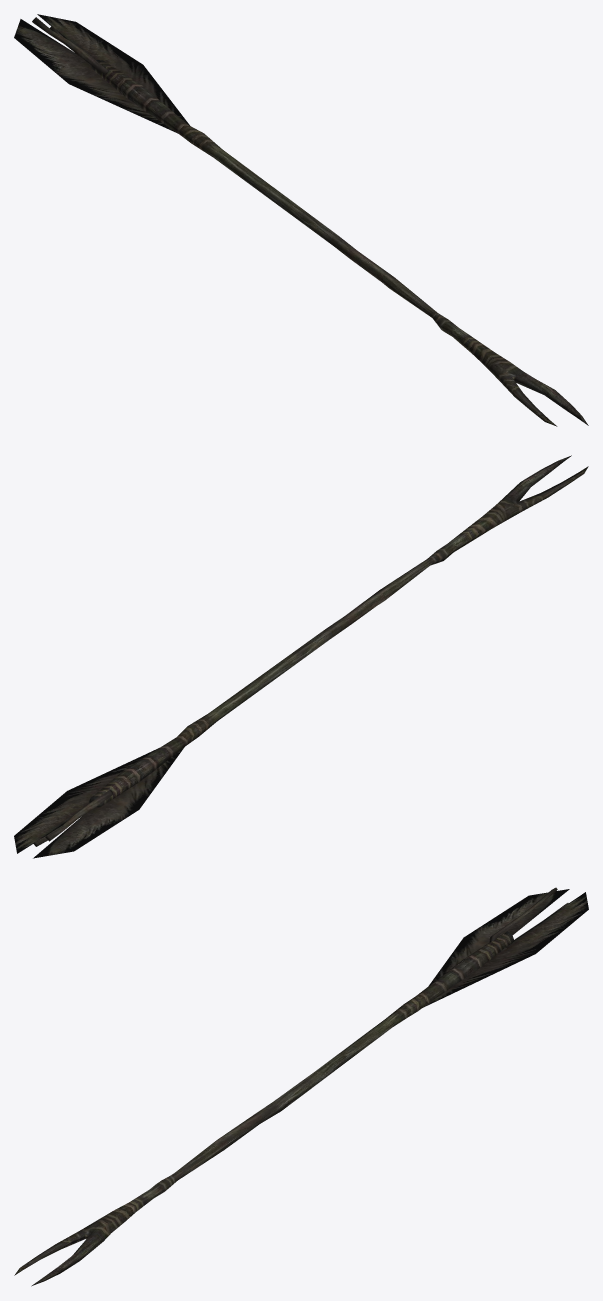
Rendered from forsworn-arrow.glb.
3 renders of one model, top to bottom at view 1: azimuth 30°, elevation 25°; view 2: azimuth 150°, elevation 25°; view 3: azimuth 330°, elevation 25°, orthographic. The views are drawn at different scales.
Visible parts, largest first — view 1: ForswornArrowFlight:0; view 2: ForswornArrowFlight:0; view 3: ForswornArrowFlight:0.
Part boxes in pixels (<box>): ForswornArrowFlight:0: <box>14,14,588,426</box>; ForswornArrowFlight:0: <box>14,455,588,858</box>; ForswornArrowFlight:0: <box>14,887,588,1286</box>.
Size of the model in its own units: 0.0573 by 0.0131 by 0.75.
1 material, 1 textured.
